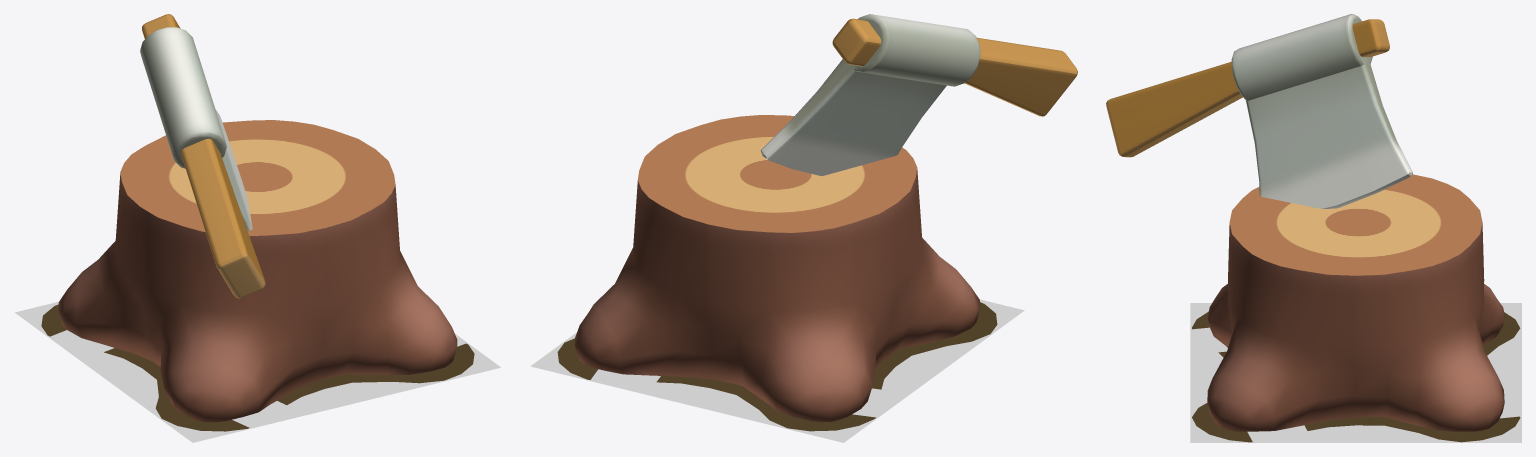
The model's file is VK_TreeHead.fbx.
3 views of the same model, side by side, from view 1: azimuth 30°, elevation 25°; view 2: azimuth 150°, elevation 25°; view 3: azimuth 270°, elevation 25° (orthographic). The views are drawn at different scales.
Parts seen in each view (by area): view 1: group36_pCube57, pCube60, TreeHead_Grid, Shadow; view 2: group36_pCube57, pCube60, TreeHead_Grid, Shadow; view 3: group36_pCube57, pCube60, TreeHead_Grid, Shadow.
Part boxes in pixels (left/top/right/bottom): group36_pCube57: left=58, top=120, right=457, bottom=422; pCube60: left=140, top=14, right=265, bottom=298; TreeHead_Grid: left=14, top=301, right=500, bottom=442; Shadow: left=41, top=304, right=474, bottom=431; group36_pCube57: left=575, top=115, right=979, bottom=422; pCube60: left=760, top=14, right=1077, bottom=176; TreeHead_Grid: left=530, top=299, right=1024, bottom=442; Shadow: left=557, top=302, right=997, bottom=431; group36_pCube57: left=1207, top=174, right=1504, bottom=431; pCube60: left=1106, top=14, right=1412, bottom=208; TreeHead_Grid: left=1190, top=303, right=1521, bottom=442; Shadow: left=1192, top=312, right=1520, bottom=442.
Size of the model in its own units: 1.04 by 1.07 by 1.25.
